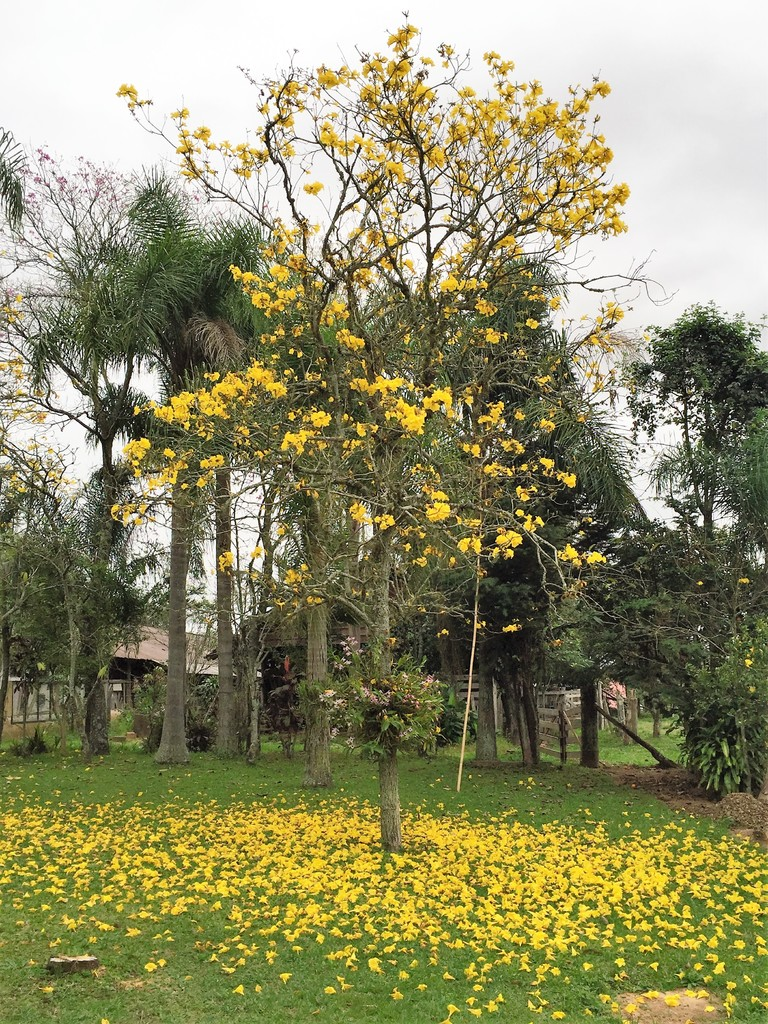Tree: (95, 10, 669, 860), (2, 167, 286, 744), (395, 234, 680, 764), (531, 311, 767, 814), (0, 465, 174, 744), (0, 127, 80, 556)
